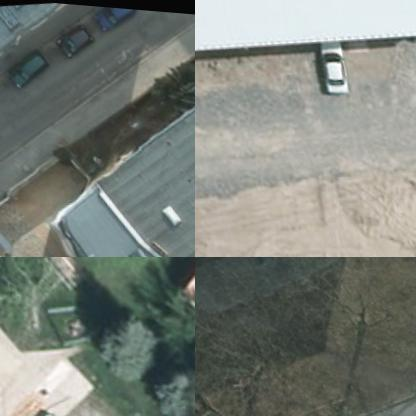car: (309, 22, 347, 90), (0, 44, 48, 85), (47, 18, 92, 54), (90, 2, 141, 29), (23, 398, 87, 415)
